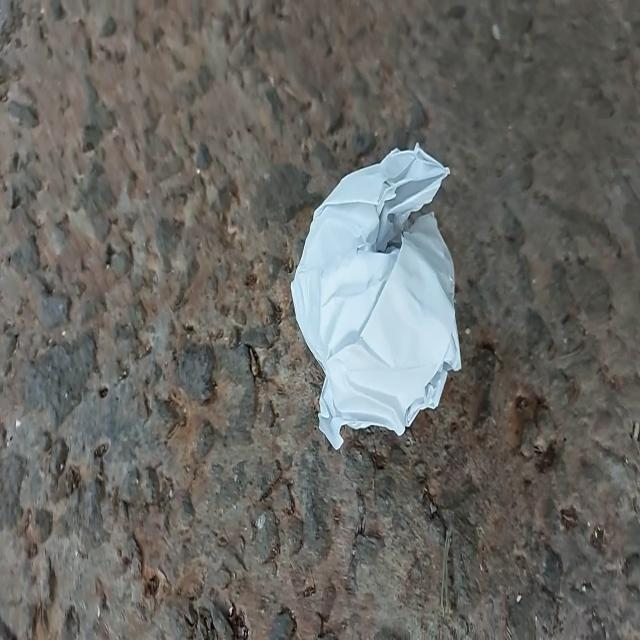Paper: (273, 120, 475, 466)
